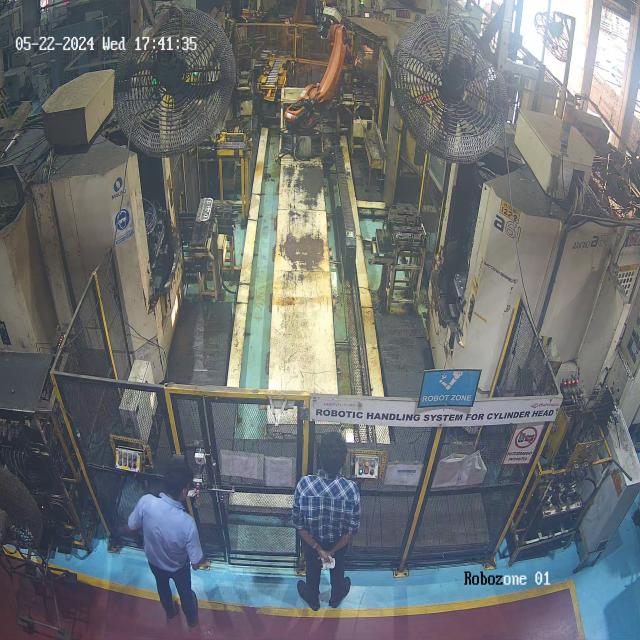person: (122, 453, 218, 638), (293, 426, 362, 610)
